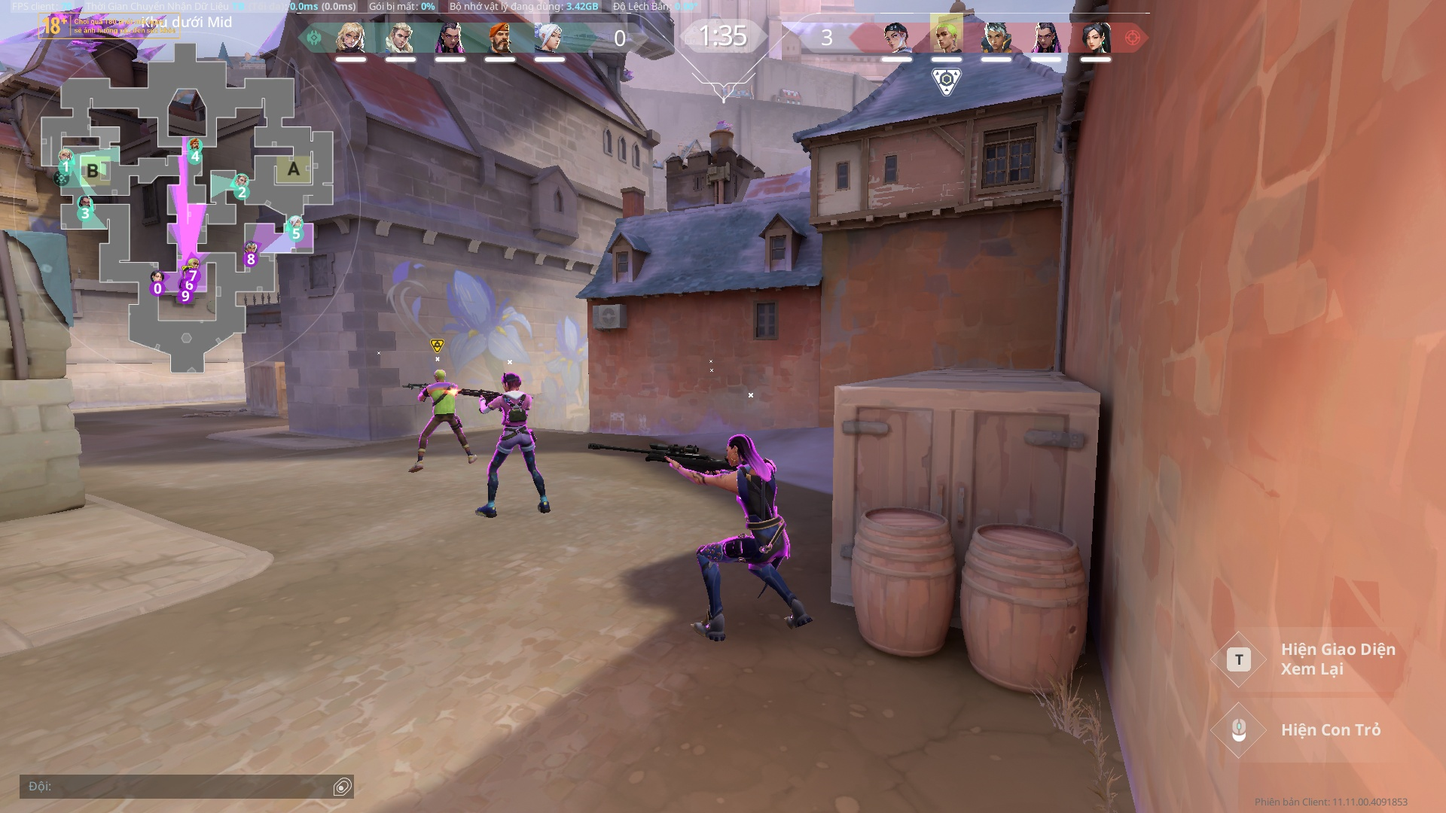body: (730, 466, 785, 522), (493, 392, 535, 430), (428, 382, 459, 415)
head: (727, 436, 752, 467), (501, 370, 519, 391), (432, 368, 447, 382)
